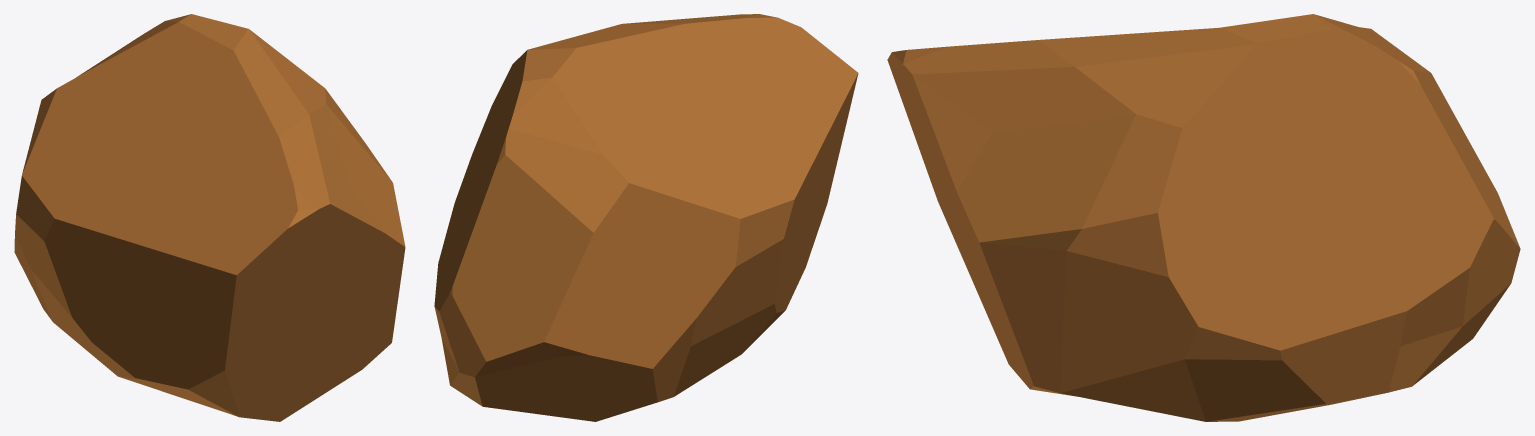
The model's file is HardRock_45.fbx.
3 renders of one model, left to right at view 1: azimuth 30°, elevation 25°; view 2: azimuth 150°, elevation 25°; view 3: azimuth 270°, elevation 25°, orthographic. The views are drawn at different scales.
Parts seen in each view (by area): view 1: HardRock_45; view 2: HardRock_45; view 3: HardRock_45.
Boxes of the visible parts, box(x1,y1,x2,y2) form: HardRock_45: box(14, 14, 405, 421); HardRock_45: box(434, 14, 858, 421); HardRock_45: box(887, 14, 1520, 421).
Size of the model in its own units: 73.47 by 66.73 by 104.
